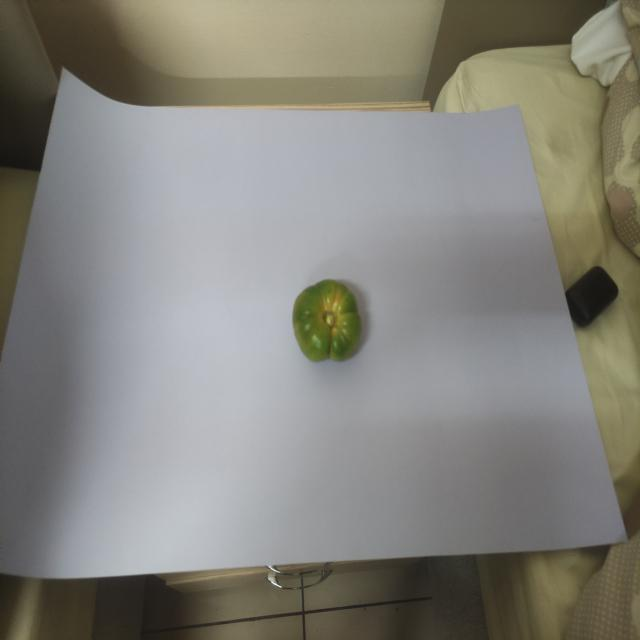yesil: (278, 260, 382, 385)
